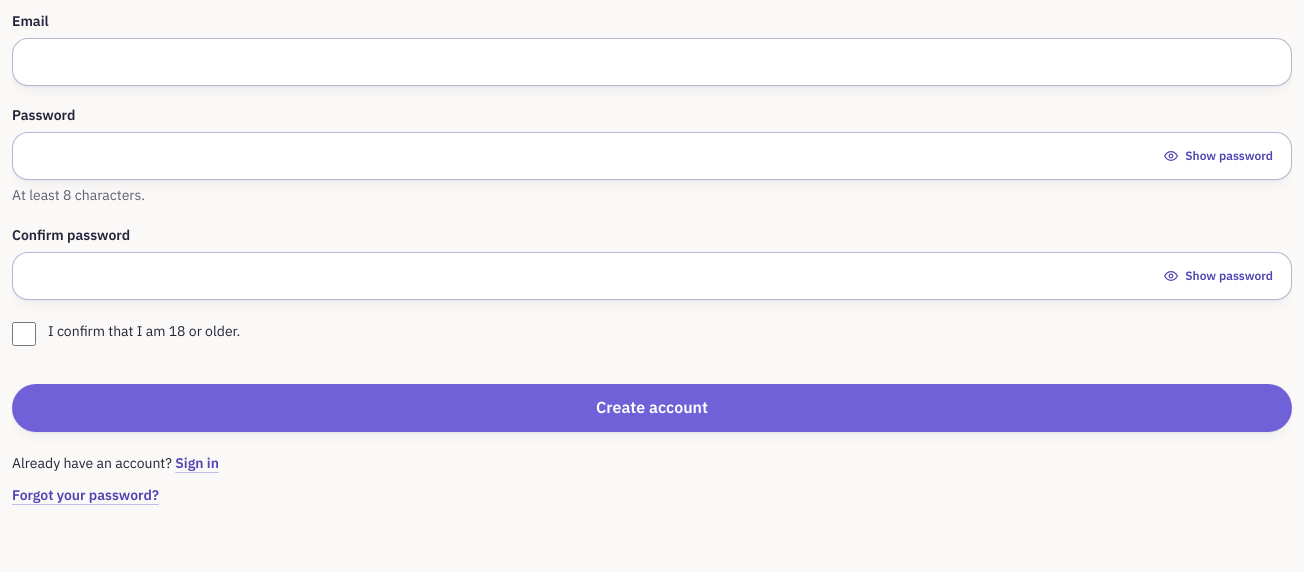
Scenario: SignUpForm › shows field errors returned by the action
Click the button "Create account" at [652, 408], box [12,384,1292,432]
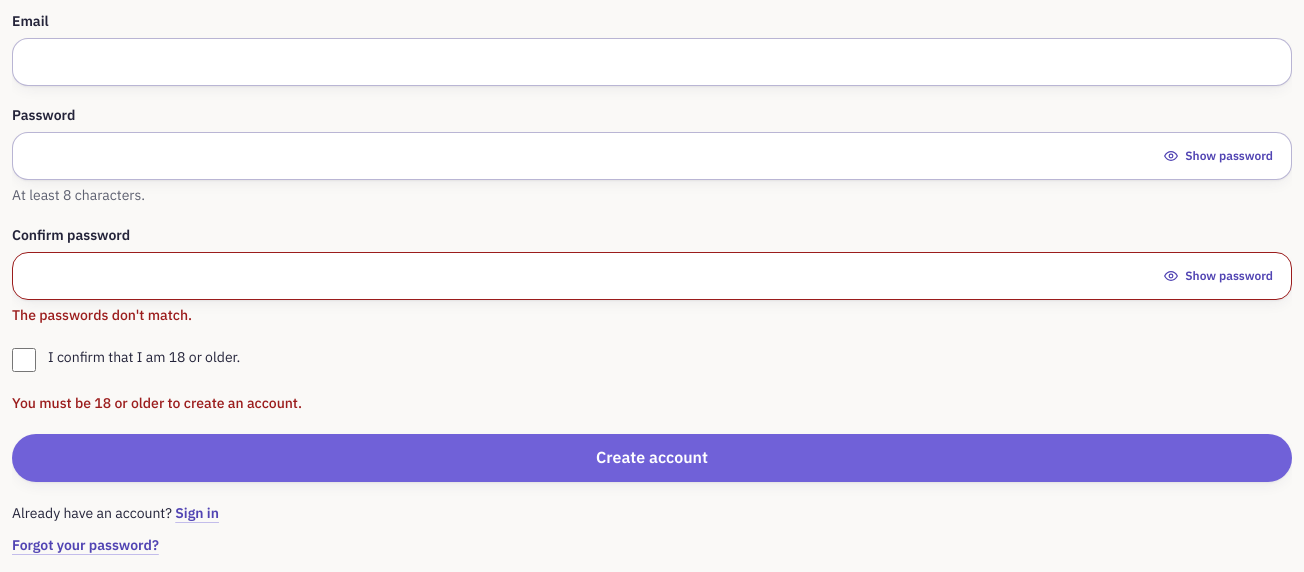
Result: the text "The passwords don't match." is shown at [12,305,192,326]
Result: the text "You must be 18 or older to create an account." is shown at [12,393,302,414]
